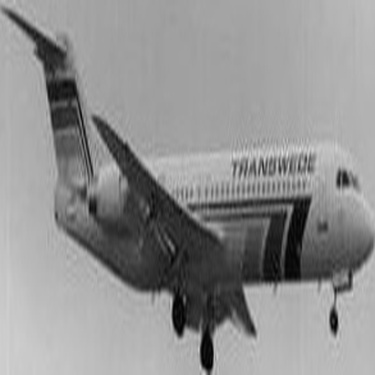airplane: (6, 2, 369, 372)
